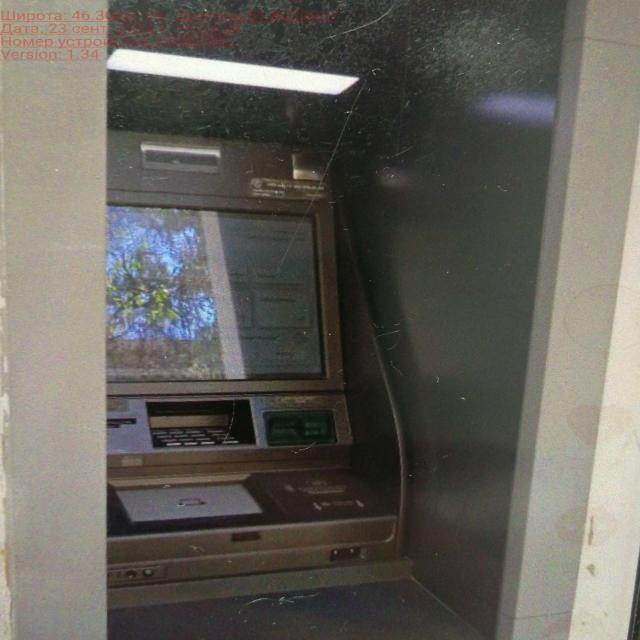bank: (93, 43, 488, 640)
